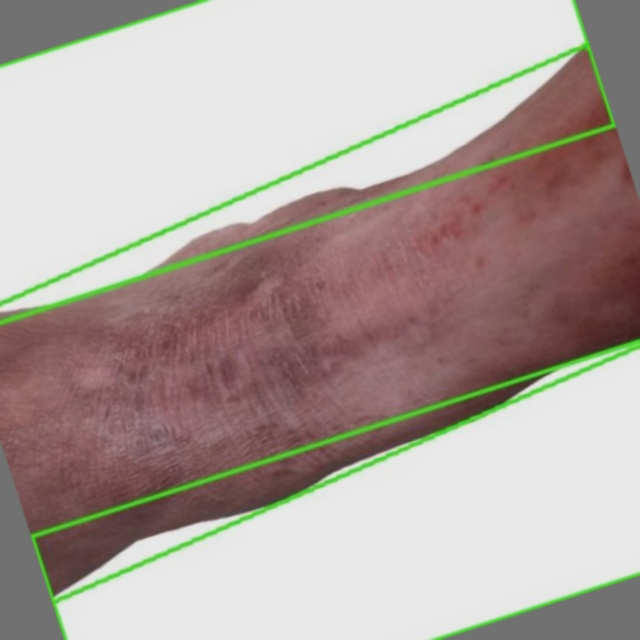Eczema: (0, 45, 639, 602), (0, 0, 614, 322), (31, 341, 639, 639)
